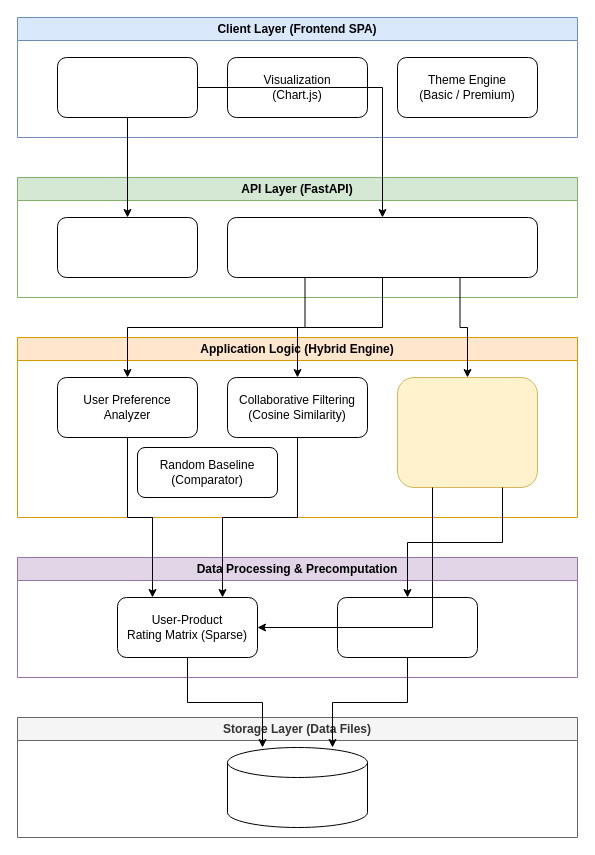
The diagram is 595 pixels wide and 855 high, and some of its shapes have lost their labels. The centre of each missing label's shape, as x and y in pixels:
"Excel Datasets (users, products, ratings, behavior)" goes at point (297, 787).
"FastAPI Server (CORS, Static Files)" goes at point (127, 247).
"Global Popularity Scores" goes at point (407, 627).
"Hybrid Genetic Algorithm (Adaptive Mutation, Multi-Obj Fitness)" goes at point (467, 432).
"REST Endpoints (/recommend, /users, /stats, /compare)" goes at point (382, 247).
"Single Page App (HTML / JS / CSS)" goes at point (127, 87).
